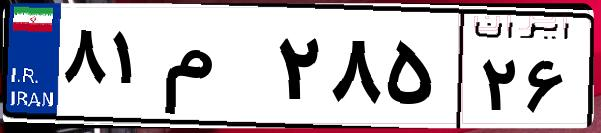1: (110, 28, 158, 98)
2: (270, 28, 330, 110), (475, 38, 525, 113)
5: (385, 28, 445, 110)
6: (525, 38, 570, 115)
8: (330, 28, 385, 110), (57, 26, 110, 100)
م: (158, 20, 270, 120)
